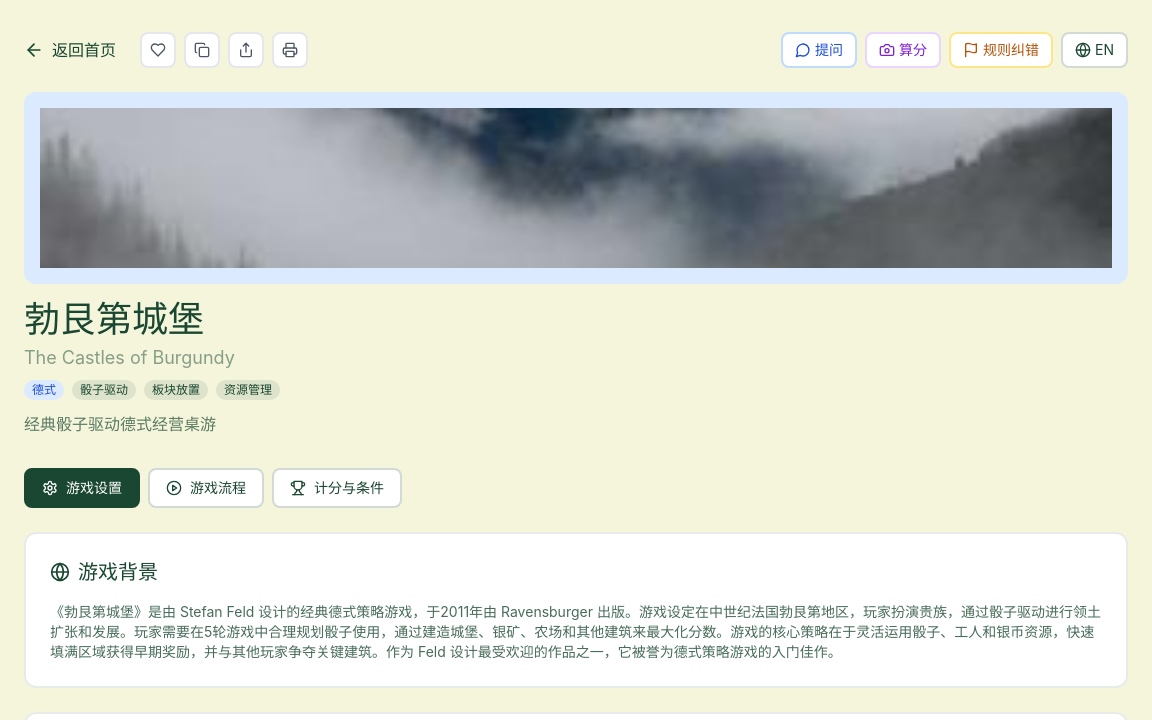
Test case: RuleCardPage › Tab切换测试 › 点击游戏流程tab应该显示回合操作
Step 1. Click the button "游戏流程" → [206, 488], box [148,468,264,508]
(page scrolled)
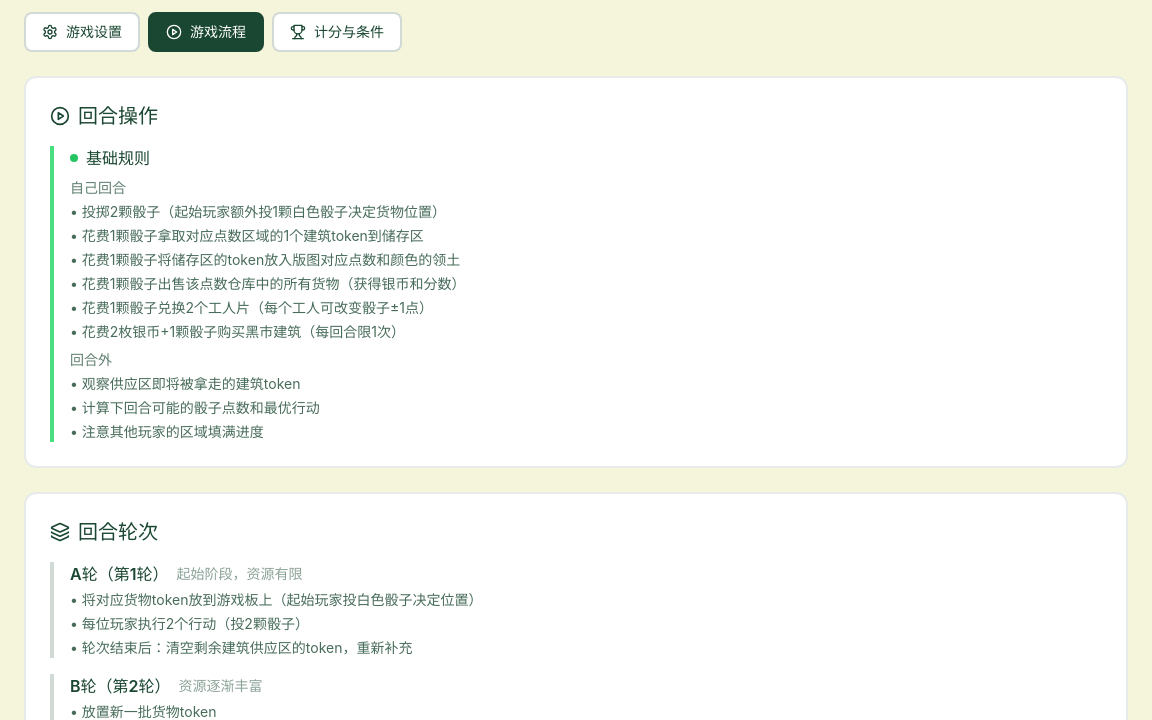
Expected: the heading "回合操作" is shown, [78,102,158,130]
Expected: the heading "自己回合" is shown, [70,179,126,196]
Expected: the heading "回合外" is shown, [70,351,112,368]
